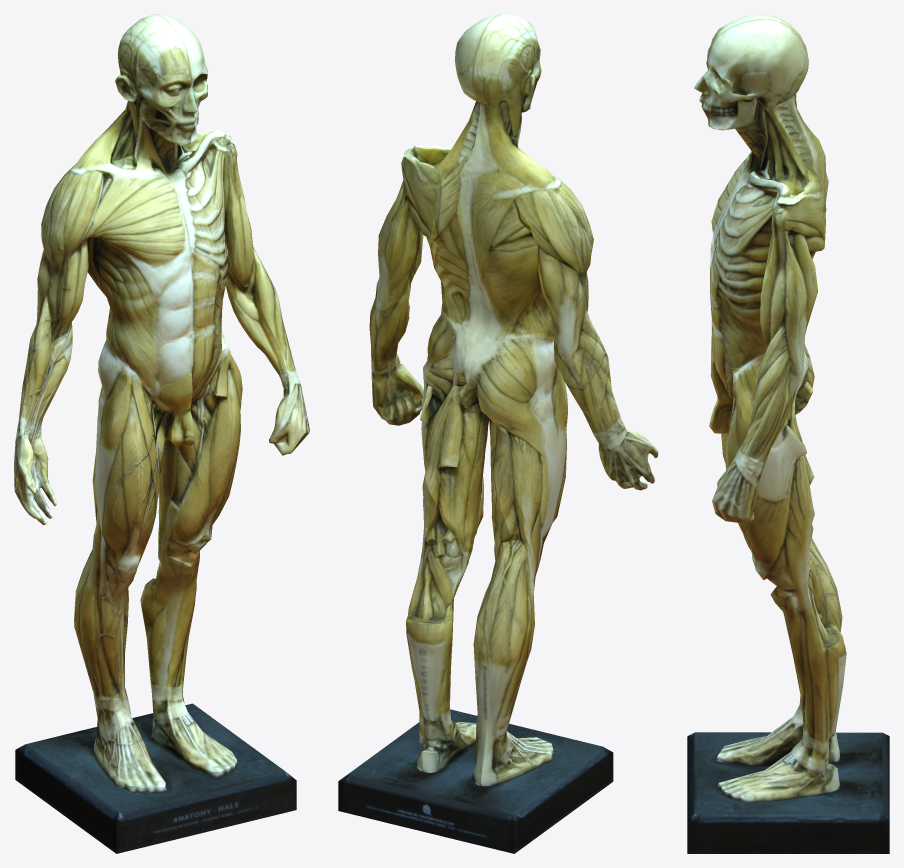
Rendered from ekershe_male.glb.
3 renders of one model, left to right at view 1: azimuth 30°, elevation 25°; view 2: azimuth 150°, elevation 25°; view 3: azimuth 270°, elevation 25°, orthographic. The views are drawn at different scales.
Parts seen in each view (by area): view 1: Object_2; view 2: Object_2; view 3: Object_2.
Boxes of the visible parts, x1,y1,x2,y2 form: Object_2: (14,14,309,853); Object_2: (338,14,658,853); Object_2: (687,14,889,853).
Size of the model in its own units: 36.39 by 95.64 by 22.27.
Materials: 1 (1 with a texture image).
